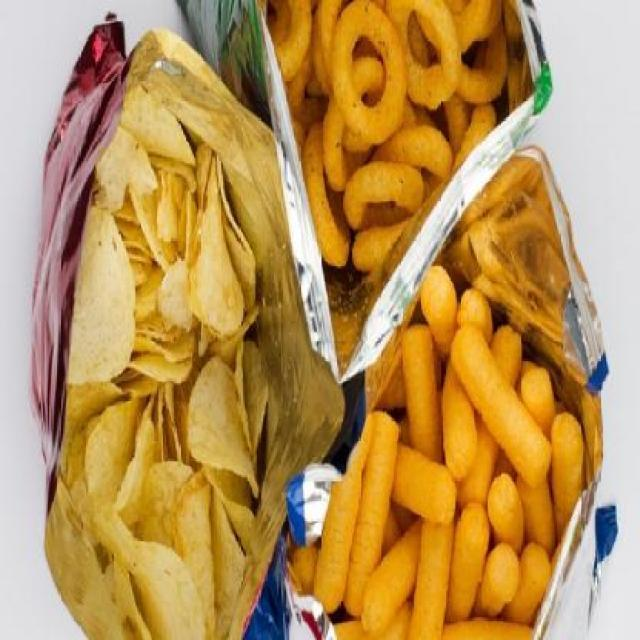Chips packaged: (74, 158, 251, 634), (336, 314, 582, 626), (270, 3, 515, 257)
